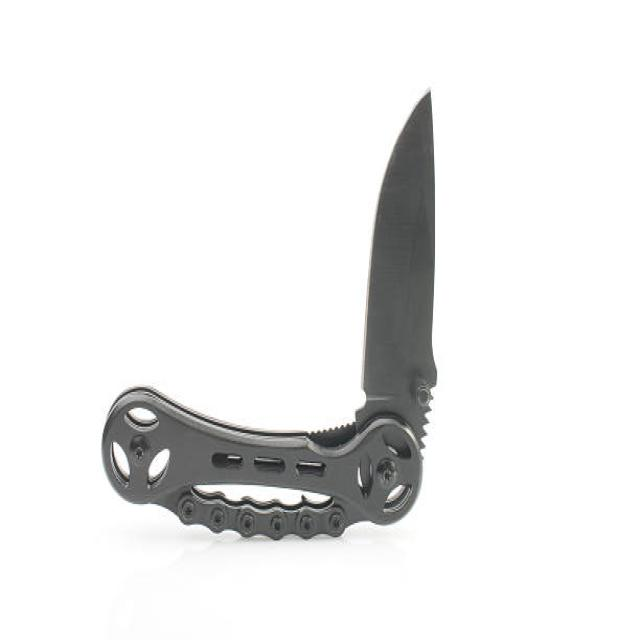knife: (96, 74, 459, 555)
